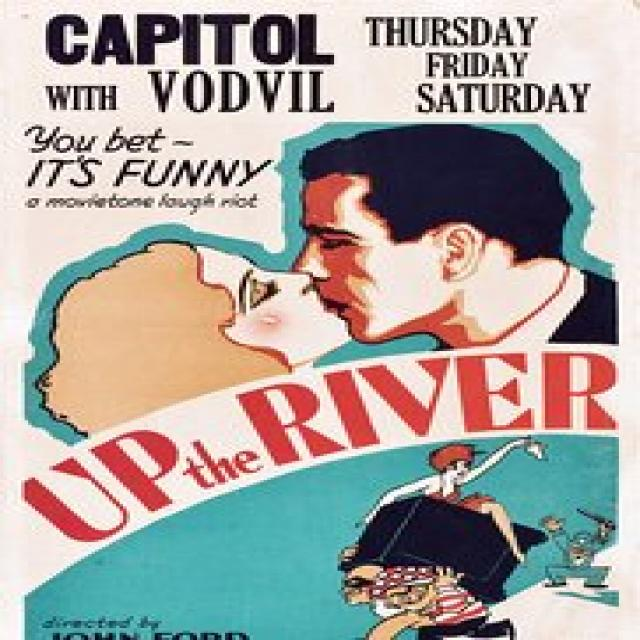movie-judul: (16, 343, 625, 594)
picture: (24, 120, 621, 447), (22, 433, 625, 640)
